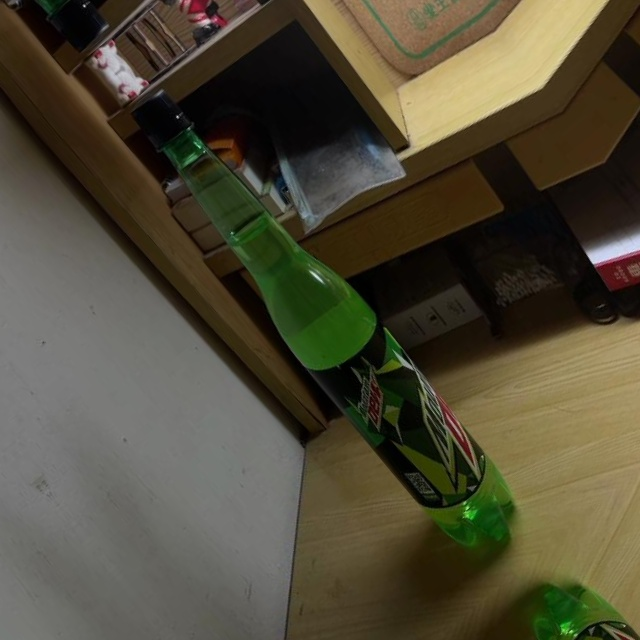Mountain-Dew: (104, 73, 542, 571)
